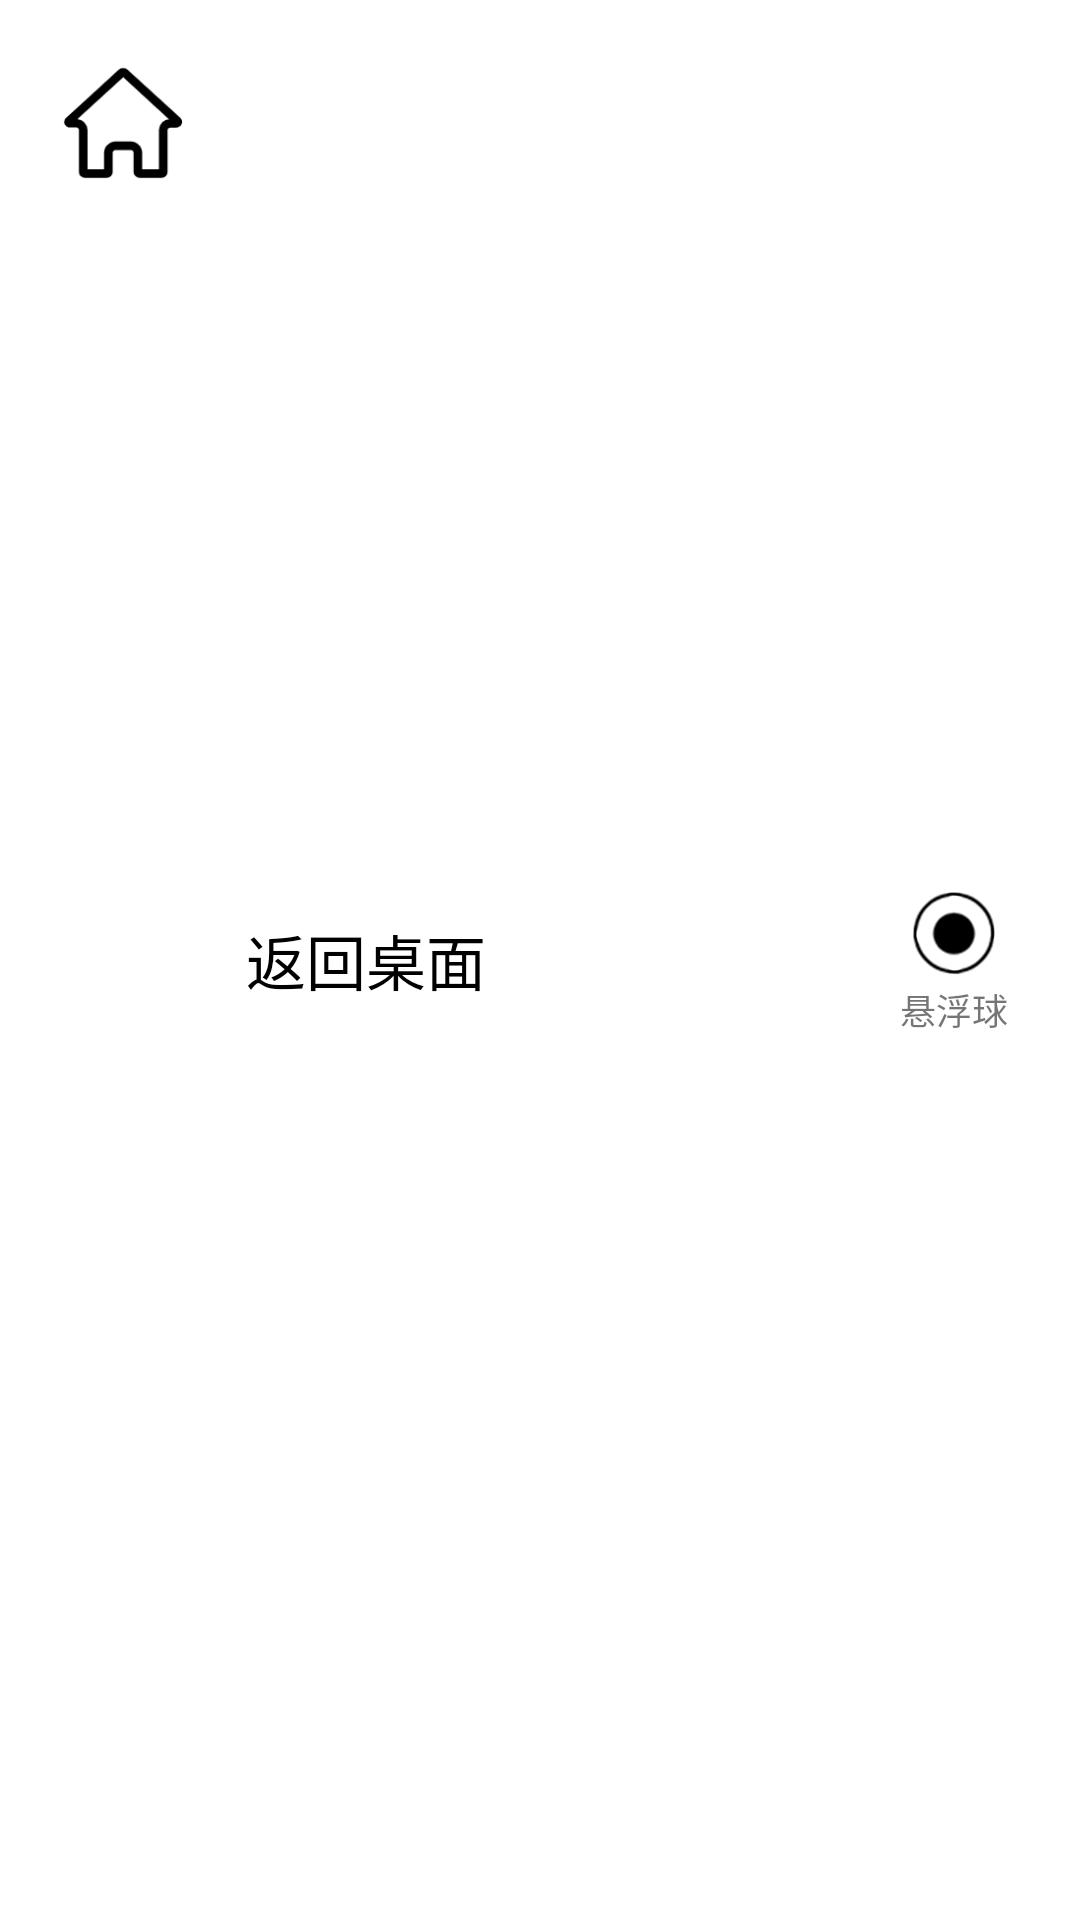

Icon click points for this 1080w x 1920h phone screenshot, format (x=x, y=y):
home: (x=123, y=123)
